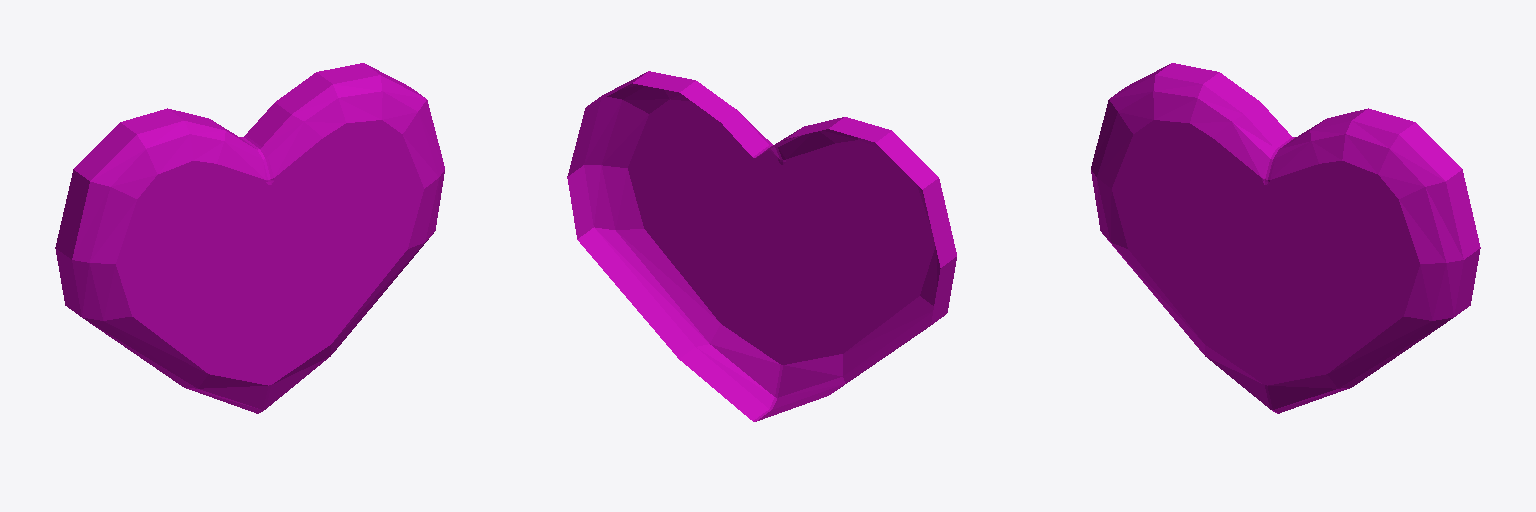
The model's file is heart1.obj.
3 views of the same model, side by side, from view 1: azimuth 30°, elevation 25°; view 2: azimuth 150°, elevation 25°; view 3: azimuth 330°, elevation 25° (orthographic).
Visible parts, largest first — view 1: Plane; view 2: Plane; view 3: Plane.
Boxes of the visible parts, x1=… form: Plane: x1=55, y1=63, x2=444, y2=413; Plane: x1=567, y1=71, x2=956, y2=421; Plane: x1=1091, y1=63, x2=1480, y2=413.
Bounding box in the file's own units: 0.1604 × 0.1277 × 0.0209.